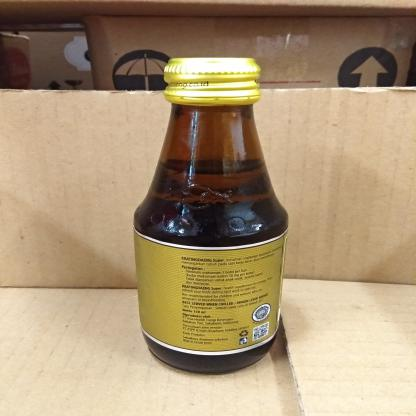glass: (127, 50, 293, 380)
